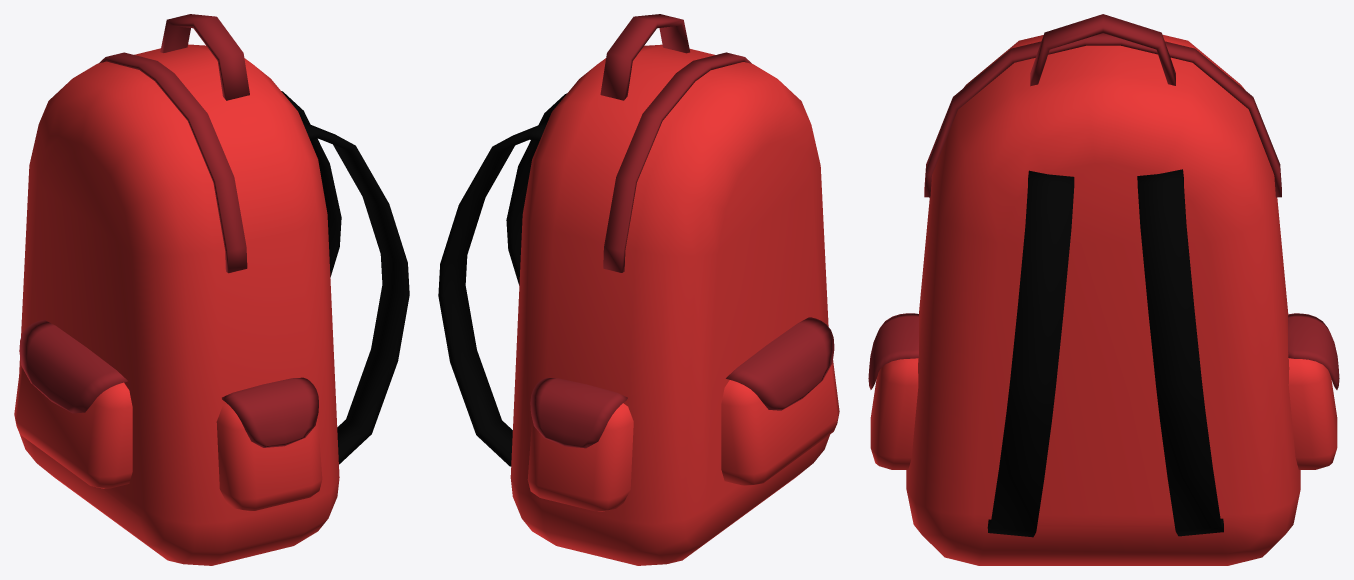
Rendered from MochilaRoja (3).fbx.
3 views of the same model, side by side, from view 1: azimuth 30°, elevation 25°; view 2: azimuth 150°, elevation 25°; view 3: azimuth 270°, elevation 25° (orthographic). The views are drawn at different scales.
Parts seen in each view (by area): view 1: Cube.004, Circle.002, Cube.005, Cube.007, Cube.006, Circle, Cube.008, Circle.003, Circle.001; view 2: Cube.004, Circle.001, Cube.005, Cube.009, Cube.006, Circle, Cube.010, Circle.003, Circle.002; view 3: Cube.004, Circle.001, Circle.002, Circle, Cube.009, Cube.007, Circle.003, Cube.010, Cube.008.
Boxes of the visible parts, x1,y1,x2,y2 form: Cube.004: (19, 44, 339, 565); Circle.002: (302, 121, 409, 464); Cube.005: (14, 362, 132, 488); Cube.007: (216, 403, 322, 511); Cube.006: (19, 320, 127, 413); Circle: (98, 52, 247, 273); Cube.008: (222, 377, 318, 447); Circle.003: (160, 14, 249, 100); Circle.001: (281, 91, 341, 277); Cube.004: (510, 44, 829, 565); Circle.001: (438, 122, 547, 466); Cube.005: (721, 360, 839, 485); Cube.009: (527, 403, 633, 511); Cube.006: (726, 317, 834, 410); Circle: (603, 52, 751, 272); Cube.010: (530, 377, 627, 448); Circle.003: (600, 14, 689, 100); Circle.002: (506, 93, 566, 285); Cube.004: (906, 35, 1300, 565); Circle.001: (1137, 169, 1223, 536); Circle.002: (987, 170, 1074, 537); Circle: (924, 33, 1281, 197); Cube.009: (1288, 358, 1337, 469); Cube.007: (870, 358, 918, 469); Circle.003: (1030, 14, 1175, 86); Cube.010: (1288, 313, 1339, 389); Cube.008: (868, 313, 918, 389).
Size of the model in its own units: 33.84 by 49.29 by 39.56.
